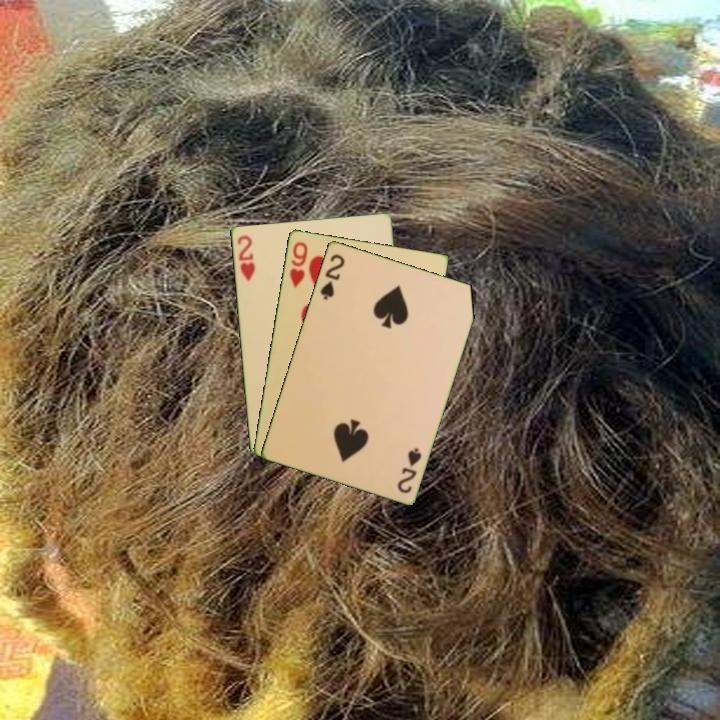2h: (233, 231, 258, 283)
2s: (316, 250, 347, 302), (394, 444, 424, 496)
9h: (286, 238, 310, 290)
